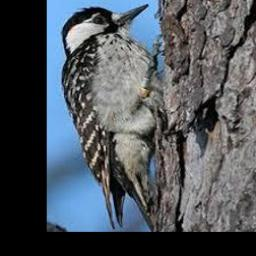Woodpecker: (60, 4, 191, 231)
